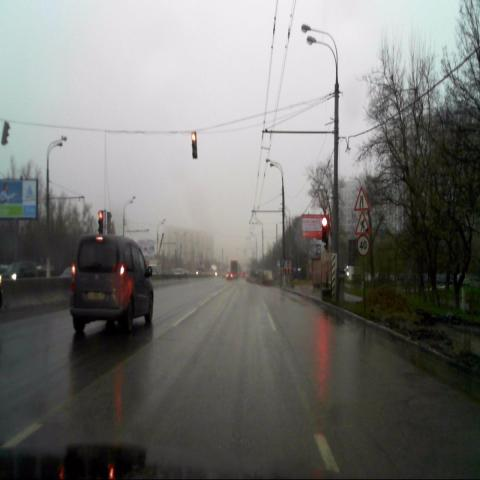1_20_2: (354, 187, 369, 210)
1_25: (355, 210, 369, 235)
